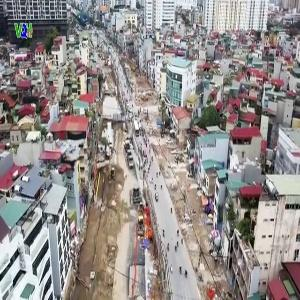drone: (36, 134, 99, 197)
